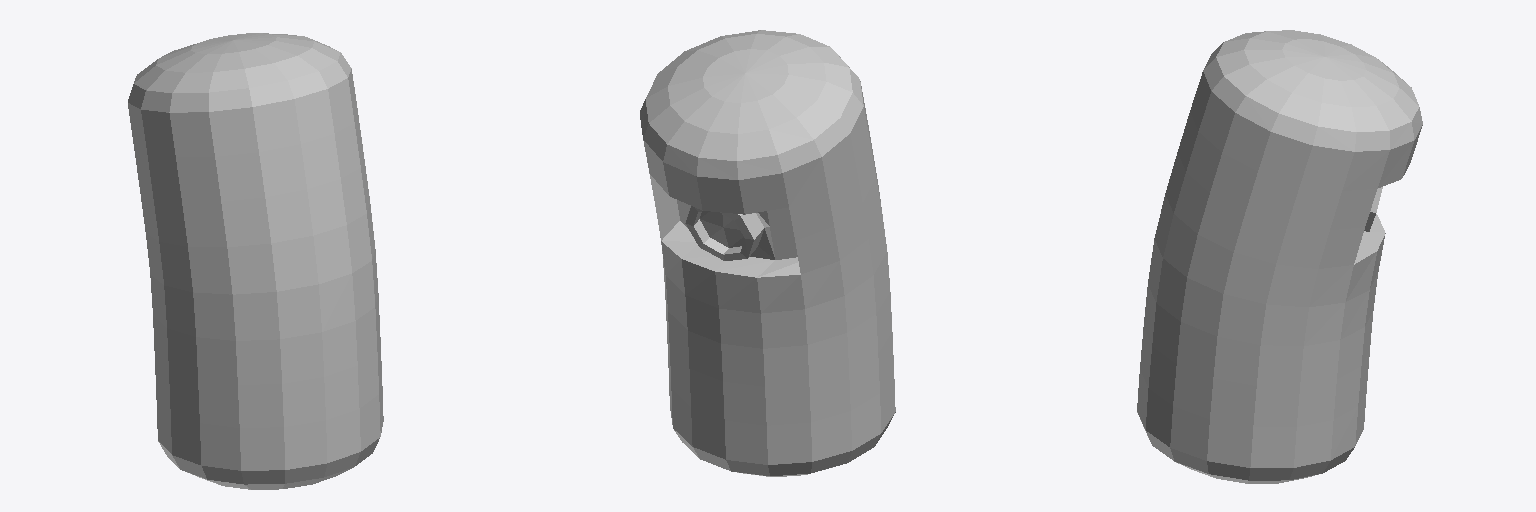
Rendered from idle2.obj.
3 renders of one model, left to right at view 1: azimuth 30°, elevation 25°; view 2: azimuth 150°, elevation 25°; view 3: azimuth 270°, elevation 25°, orthographic.
Parts seen in each view (by area): view 1: Sphere; view 2: Sphere; view 3: Sphere.
Part boxes in pixels (x1,y1,x2,y2): Sphere: (128,33,383,489); Sphere: (640,30,895,476); Sphere: (1137,30,1422,483).
Size of the model in its own units: 1 by 2 by 1.26.